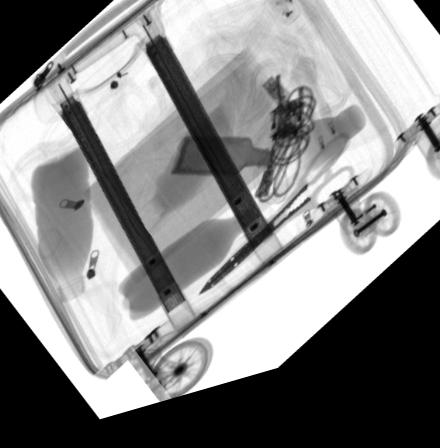Scissors: (195, 150, 355, 306)
